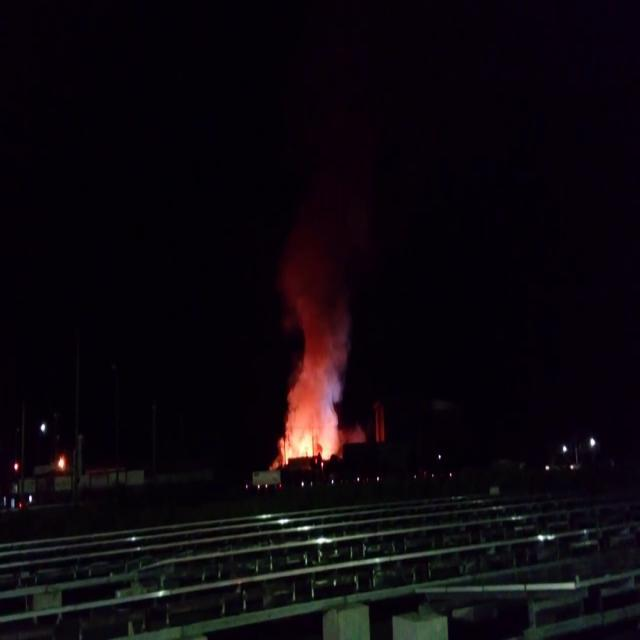Fire: (279, 432, 333, 460)
Smoke: (270, 238, 362, 436)
